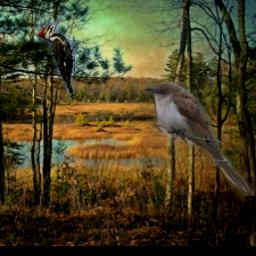Cuckoo: (146, 82, 256, 196)
Woodpecker: (36, 19, 75, 103)
